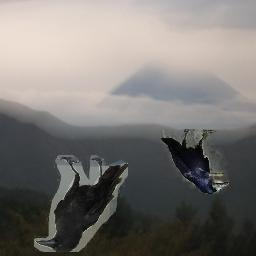Crow: (34, 156, 128, 253), (161, 130, 229, 195)
